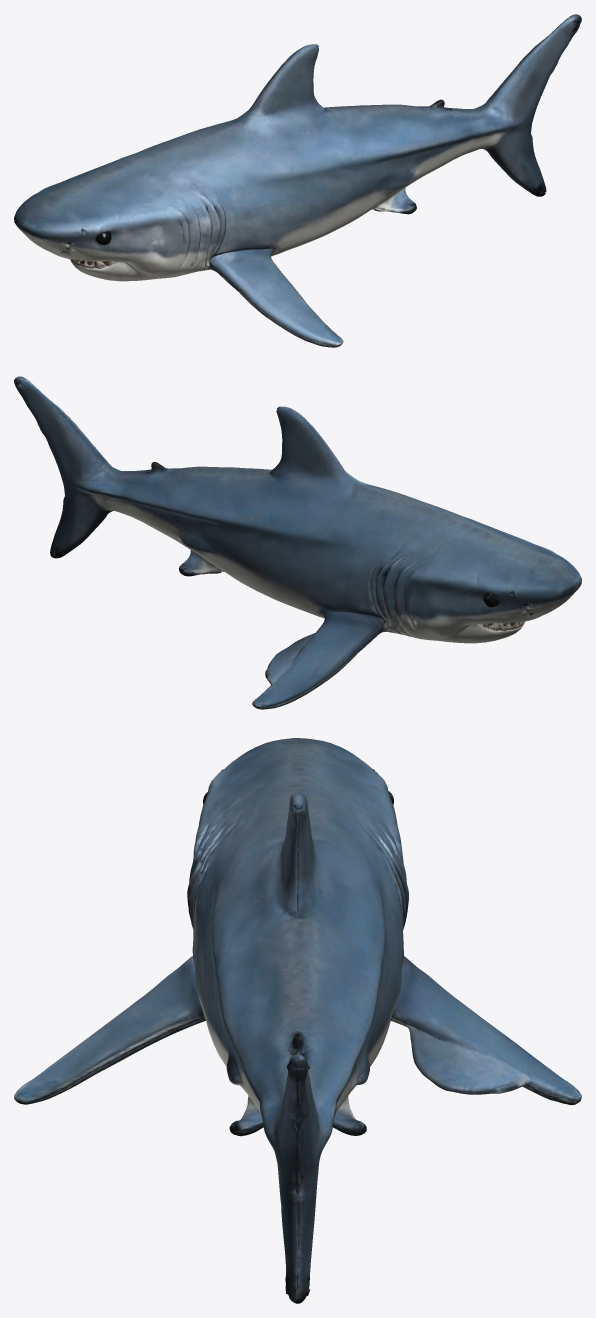
The model's file is shark.glb.
3 renders of one model, top to bottom at view 1: azimuth 30°, elevation 25°; view 2: azimuth 150°, elevation 25°; view 3: azimuth 270°, elevation 25°, orthographic. The views are drawn at different scales.
Parts seen in each view (by area): view 1: tripo_node_c7879c3a-cdcd-41f1-ab3f-1b9e5acbf163; view 2: tripo_node_c7879c3a-cdcd-41f1-ab3f-1b9e5acbf163; view 3: tripo_node_c7879c3a-cdcd-41f1-ab3f-1b9e5acbf163.
Boxes of the visible parts, x1=… form: tripo_node_c7879c3a-cdcd-41f1-ab3f-1b9e5acbf163: x1=14, y1=14, x2=581, y2=347; tripo_node_c7879c3a-cdcd-41f1-ab3f-1b9e5acbf163: x1=14, y1=376, x2=581, y2=709; tripo_node_c7879c3a-cdcd-41f1-ab3f-1b9e5acbf163: x1=14, y1=738, x2=581, y2=1303.
Size of the model in its own units: 0.9771 by 0.3694 by 0.5398.
1 material, 1 textured.
